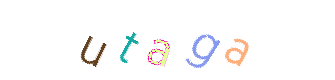A: (127, 0, 207, 80), (155, 0, 235, 80)
G: (148, 0, 228, 80)
T: (88, 0, 168, 80)
U: (60, 0, 140, 80)
